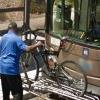Bicycle: (19, 22, 87, 96)
